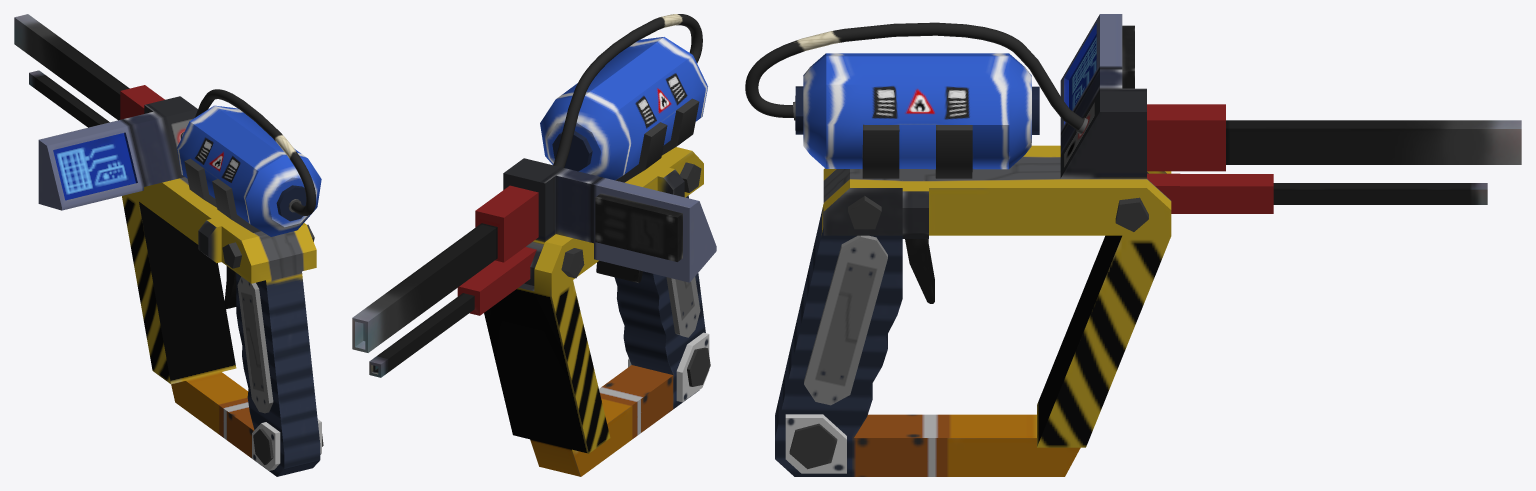
File: better_blowtorch.fbx
3 views of the same model, side by side, from view 1: azimuth 30°, elevation 25°; view 2: azimuth 150°, elevation 25°; view 3: azimuth 270°, elevation 25° (orthographic). The views are drawn at different scales.
Parts seen in each view (by area): view 1: Blowtorch_v2; view 2: Blowtorch_v2; view 3: Blowtorch_v2.
Boxes of the visible parts, x1,y1,x2,y2 form: Blowtorch_v2: [14, 14, 323, 476]; Blowtorch_v2: [352, 14, 716, 476]; Blowtorch_v2: [745, 14, 1521, 476].
Bounding box in the file's own units: 458 × 815 × 1297.
